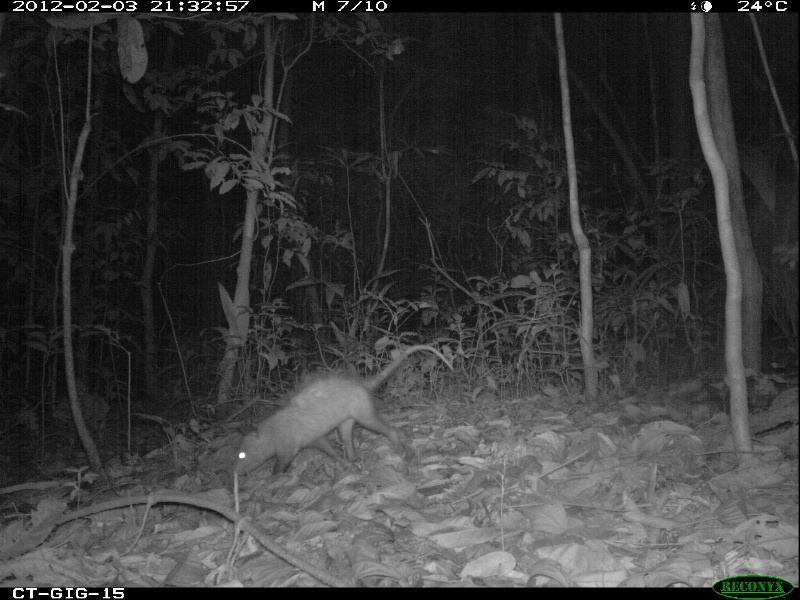opossum: (230, 332, 458, 486)
